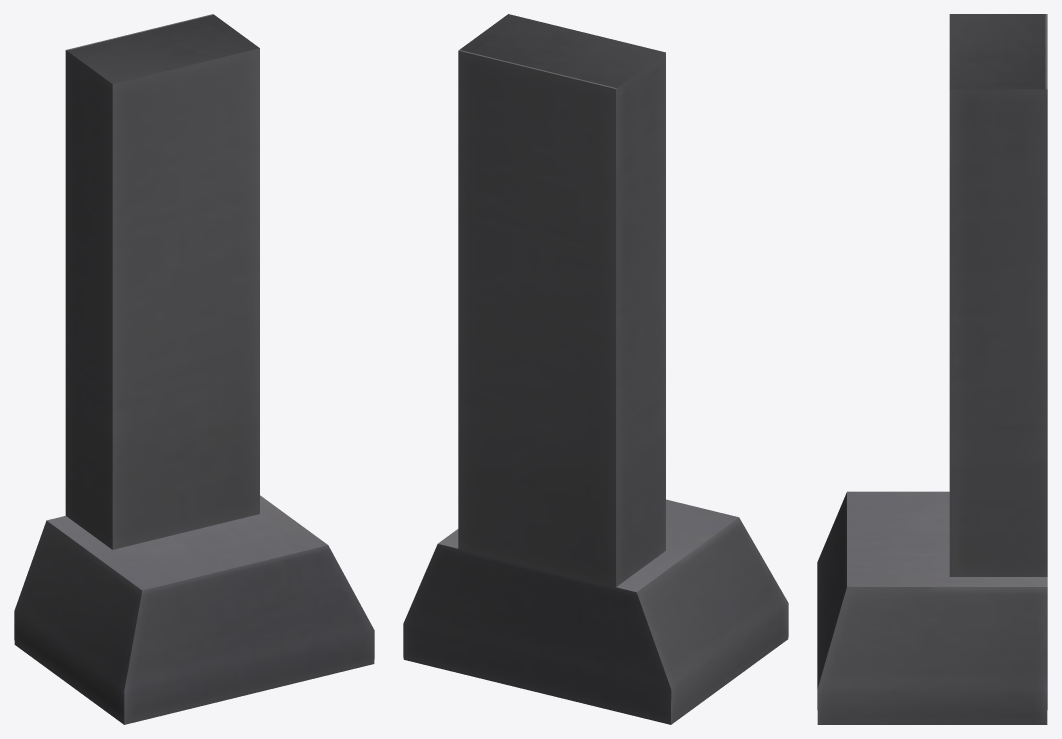
Rendered from Kitchen_Chimney_1.fbx.
3 views of the same model, side by side, from view 1: azimuth 30°, elevation 25°; view 2: azimuth 150°, elevation 25°; view 3: azimuth 270°, elevation 25° (orthographic). The views are drawn at different scales.
Visible parts, largest first — view 1: polySurface1536; view 2: polySurface1536; view 3: polySurface1536.
Part boxes in pixels (x1,y1,x2,y2): polySurface1536: (14,14,374,724); polySurface1536: (403,14,788,724); polySurface1536: (817,14,1047,724).
Bounding box in the file's own units: 0.9015 × 2 × 0.6851.
